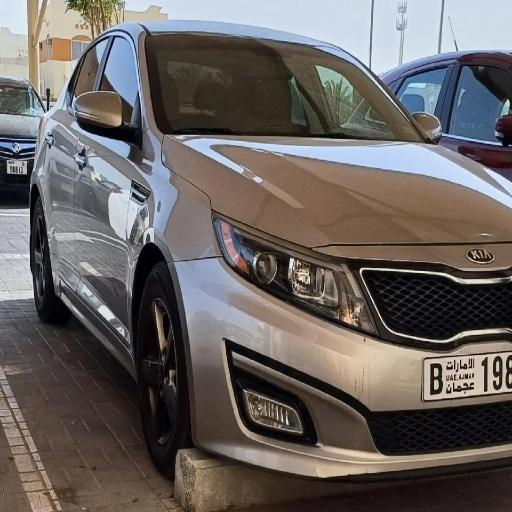license-plates: (423, 351, 512, 401), (7, 160, 27, 174)
